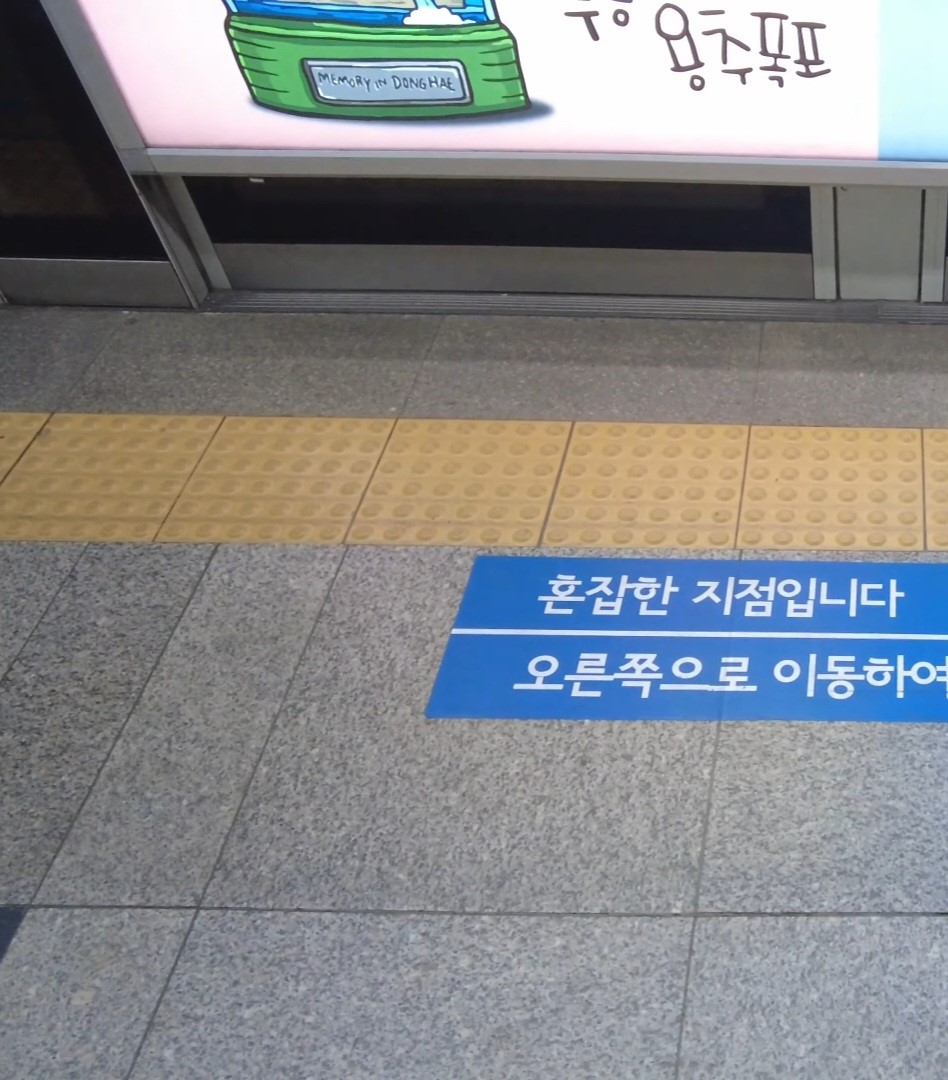warningBlock: (192, 400, 374, 552), (22, 409, 192, 551), (560, 424, 739, 558), (379, 420, 559, 546), (742, 429, 919, 548)
